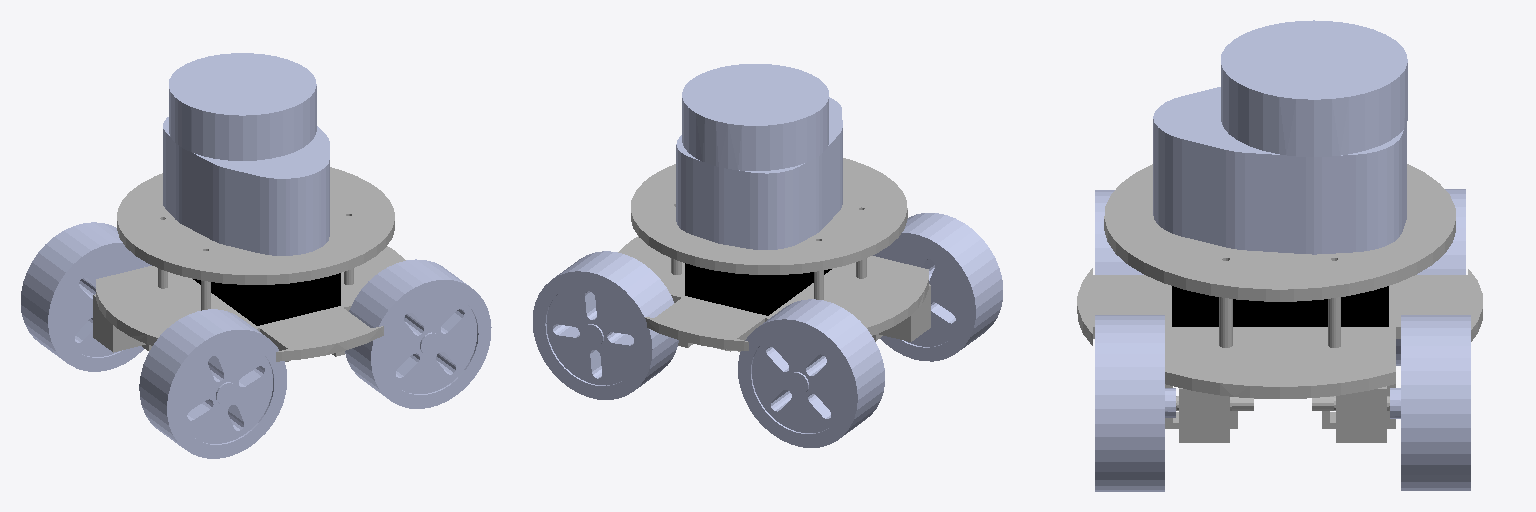
URDF robot description (robot):
<?xml version="1.0" encoding="utf-8"?>
<!-- This URDF was automatically created by SolidWorks to URDF Exporter! Originally created by Stephen Brawner (brawner@gmail.com) 
     Commit Version: 1.6.0-4-g7f85cfe  Build Version: 1.6.7995.38578
     For more information, please see http://wiki.ros.org/sw_urdf_exporter -->
<robot
  xmlns:xacro="http://www.ros.org/wiki/xacro"
  name="robot">

  <link
    name="base_link">
  </link>

  <link
    name="chassis_link">
    <inertial>
      <origin
        xyz="0.000204687581195852 0.00314875501574724 1.53572466782085E-17"
        rpy="0 0 0" />
      <mass
        value="0.253438557114572" />
      <inertia
        ixx="0.000230915983626971"
        ixy="-1.25922435715914E-21"
        ixz="-1.96530082780382E-20"
        iyy="0.000388552862570868"
        iyz="8.63727389926082E-21"
        izz="0.000171792964937591" />
    </inertial>
    <visual>
      <origin
        xyz="0 0 0"
        rpy="0 0 0" />
      <geometry>
        <mesh
          filename="package://rccar_lab/car_urdf/meshes/base_link.STL" />
      </geometry>
      <material
        name="">
        <color
          rgba="0.752941176470588 0.752941176470588 0.752941176470588 1" />
      </material>
    </visual>
    <collision>
      <origin
        xyz="0 0 0"
        rpy="0 0 0" />
      <geometry>
        <mesh
          filename="package://rccar_lab/car_urdf/meshes/base_link.STL" />
      </geometry>
    </collision>
  </link>
  <joint
    name="chassis_joint"
    type="fixed">
    <origin
      xyz="-0.00388152940223453 0.0491487550157473 0.0959822836251013"
      rpy="0 0 0" />
    <parent
      link="base_link" />
    <child
      link="chassis_link" />
    <axis
      xyz="0 0 0" />
  </joint>

  <link
    name="fr_wheel_link">
    <inertial>
      <origin
        xyz="6.93889390390723E-18 5.31629147485363E-05 1.04083408558608E-17"
        rpy="0 0 0" />
      <mass
        value="0.0746841951683647" />
      <inertia
        ixx="2.49513056185901E-05"
        ixy="-5.423278565198E-20"
        ixz="4.13590306276502E-22"
        iyy="4.21618272671167E-05"
        iyz="-9.47970035310487E-23"
        izz="2.49513056185901E-05" />
    </inertial>
    <visual>
      <origin
        xyz="0 0 0"
        rpy="0 0 0" />
      <geometry>
        <mesh
          filename="package://rccar_lab/car_urdf/meshes/fr_wheel_link.STL" />
      </geometry>
      <material
        name="">
        <color
          rgba="0.792156862745098 0.819607843137255 0.933333333333333 1" />
      </material>
    </visual>
    <collision>
      <origin
        xyz="0 0 0"
        rpy="0 0 0" />
      <geometry>
        <mesh
          filename="package://rccar_lab/car_urdf/meshes/fr_wheel_link.STL" />
      </geometry>
    </collision>
  </link>
  <joint
    name="fr_wheel_joint"
    type="continuous">
    <origin
      xyz="0.055 -0.05545 -0.0135"
      rpy="0 0 0" />
    <parent
      link="chassis_link" />
    <child
      link="fr_wheel_link" />
    <axis
      xyz="0 1 0" />
  </joint>
  <link
    name="fl_wheel_link">
    <inertial>
      <origin
        xyz="0 -5.31629147485432E-05 -5.20417042793042E-18"
        rpy="0 0 0" />
      <mass
        value="0.0746841951683647" />
      <inertia
        ixx="2.49513056185901E-05"
        ixy="-5.47674516841756E-20"
        ixz="-2.71418638493962E-22"
        iyy="4.21618272671167E-05"
        iyz="2.30183165982362E-22"
        izz="2.49513056185901E-05" />
    </inertial>
    <visual>
      <origin
        xyz="0 0 0"
        rpy="0 0 0" />
      <geometry>
        <mesh
          filename="package://rccar_lab/car_urdf/meshes/fl_wheel_link.STL" />
      </geometry>
      <material
        name="">
        <color
          rgba="0.792156862745098 0.819607843137255 0.933333333333333 1" />
      </material>
    </visual>
    <collision>
      <origin
        xyz="0 0 0"
        rpy="0 0 0" />
      <geometry>
        <mesh
          filename="package://rccar_lab/car_urdf/meshes/fl_wheel_link.STL" />
      </geometry>
    </collision>
  </link>
  <joint
    name="fl_wheel_joint"
    type="continuous">
    <origin
      xyz="0.055 0.05745 -0.0135"
      rpy="0 0 0" />
    <parent
      link="chassis_link" />
    <child
      link="fl_wheel_link" />
    <axis
      xyz="0 -1 0" />
  </joint>
  <link
    name="br_wheel_link">
    <inertial>
      <origin
        xyz="0 5.31629147485363E-05 1.73472347597681E-18"
        rpy="0 0 0" />
      <mass
        value="0.0746841951683647" />
      <inertia
        ixx="2.49513056185901E-05"
        ixy="-6.50129727077473E-20"
        ixz="6.75315421967096E-22"
        iyy="4.21618272671167E-05"
        iyz="1.17926037236496E-21"
        izz="2.49513056185901E-05" />
    </inertial>
    <visual>
      <origin
        xyz="0 0 0"
        rpy="0 0 0" />
      <geometry>
        <mesh
          filename="package://rccar_lab/car_urdf/meshes/br_wheel_link.STL" />
      </geometry>
      <material
        name="">
        <color
          rgba="0.792156862745098 0.819607843137255 0.933333333333333 1" />
      </material>
    </visual>
    <collision>
      <origin
        xyz="0 0 0"
        rpy="0 0 0" />
      <geometry>
        <mesh
          filename="package://rccar_lab/car_urdf/meshes/br_wheel_link.STL" />
      </geometry>
    </collision>
  </link>
  <joint
    name="br_wheel_joint"
    type="continuous">
    <origin
      xyz="-0.055 -0.05545 -0.0135"
      rpy="0 0 0" />
    <parent
      link="chassis_link" />
    <child
      link="br_wheel_link" />
    <axis
      xyz="0 1 0" />
  </joint>
  <link
    name="bl_wheel_link">
    <inertial>
      <origin
        xyz="-6.93889390390723E-18 -5.31629147485502E-05 -1.73472347597681E-18"
        rpy="0 0 0" />
      <mass
        value="0.0746841951683648" />
      <inertia
        ixx="2.49513056185901E-05"
        ixy="-5.67907179160895E-20"
        ixz="-1.78845495721914E-21"
        iyy="4.21618272671167E-05"
        iyz="9.13026509813255E-22"
        izz="2.49513056185901E-05" />
    </inertial>
    <visual>
      <origin
        xyz="0 0 0"
        rpy="0 0 0" />
      <geometry>
        <mesh
          filename="package://rccar_lab/car_urdf/meshes/bl_wheel_link.STL" />
      </geometry>
      <material
        name="">
        <color
          rgba="0.792156862745098 0.819607843137255 0.933333333333333 1" />
      </material>
    </visual>
    <collision>
      <origin
        xyz="0 0 0"
        rpy="0 0 0" />
      <geometry>
        <mesh
          filename="package://rccar_lab/car_urdf/meshes/bl_wheel_link.STL" />
      </geometry>
    </collision>
  </link>
  <joint
    name="bl_wheel_joint"
    type="continuous">
    <origin
      xyz="-0.055 0.05545 -0.0135"
      rpy="0 0 0" />
    <parent
      link="chassis_link" />
    <child
      link="bl_wheel_link" />
    <axis
      xyz="0 -1 0" />
  </joint>
  <link
    name="laser_frame">
    <inertial>
      <origin
        xyz="-1.11844852964053E-16 -0.00645097632173484 -0.0220370930302957"
        rpy="0 0 0" />
      <mass
        value="0.291987614489637" />
      <inertia
        ixx="0.0002404496804147"
        ixy="1.12972461375983E-19"
        ixz="-7.32140473318081E-21"
        iyy="0.000179322343491855"
        iyz="-1.7915823262772E-05"
        izz="0.00023562662350046" />
    </inertial>
    <visual>
      <origin
        xyz="0 0 0"
        rpy="0 0 0" />
      <geometry>
        <mesh
          filename="package://rccar_lab/car_urdf/meshes/laser_frame.STL" />
      </geometry>
      <material
        name="">
        <color
          rgba="0.792156862745098 0.819607843137255 0.933333333333333 1" />
      </material>
    </visual>
    <collision>
      <origin
        xyz="0 0 0"
        rpy="0 0 0" />
      <geometry>
        <mesh
          filename="package://rccar_lab/car_urdf/meshes/laser_frame.STL" />
      </geometry>
    </collision>
  </link>
  <joint
    name="laser_frame_joint"
    type="fixed">
    <origin
      xyz="0 0.0125 0.08893"
      rpy="0 0 0" />
    <parent
      link="chassis_link" />
    <child
      link="laser_frame" />
    <axis
      xyz="0 0 0" />
  </joint>

  <gazebo reference="laser_frame">
      <material>Gazebo/DarkGrey</material>
      <sensor name="laser" type="gpu_lidar">
        <pose> 0 0 0 0 0 0 </pose>
        <visualize>true</visualize>
        <update_rate>10</update_rate>
        <topic>scan</topic>
        <gz_frame_id>laser_frame</gz_frame_id>
        <lidar>
          <scan>
            <horizontal>
              <samples>360</samples>
              <resolution>1</resolution>
              <min_angle>-3.14</min_angle>
              <max_angle>3.14</max_angle>
            </horizontal>
          </scan>
          <range>
            <min>0.15</min>
            <max>12</max>
            <resolution>0.01</resolution>
          </range>

          <noise>
            <type>gaussian</type>
            <mean>0.0</mean>
            <stddev>0.001</stddev>
          </noise>

        </lidar>

        <always_on>1</always_on>
        <visualize>1</visualize>

      </sensor>

  </gazebo>

  <link
    name="ebox_link">
    <inertial>
      <origin
        xyz="1.32591217148186E-18 -7.42445710199543E-18 0.00665420516682762"
        rpy="0 0 0" />
      <mass
        value="0.0194293141652942" />
      <inertia
        ixx="1.44863163441746E-05"
        ixy="2.72159329107965E-20"
        ixz="1.70283301056841E-20"
        iyy="5.88923381835338E-06"
        iyz="8.0720709024853E-22"
        izz="1.88651943786396E-05" />
    </inertial>
    <visual>
      <origin
        xyz="0 0 0"
        rpy="0 0 0" />
      <geometry>
        <mesh
          filename="package://rccar_lab/car_urdf/meshes/ebox_link.STL" />
      </geometry>
      <material
        name="">
        <color
          rgba="0 0 0 1" />
      </material>
    </visual>
    <collision>
      <origin
        xyz="0 0 0"
        rpy="0 0 0" />
      <geometry>
        <mesh
          filename="package://rccar_lab/car_urdf/meshes/ebox_link.STL" />
      </geometry>
    </collision>
  </link>
  <joint
    name="ebox_joint"
    type="fixed">
    <origin
      xyz="0 0 0.0025"
      rpy="0 0 0" />
    <parent
      link="chassis_link" />
    <child
      link="ebox_link" />
    <axis
      xyz="0 0 0" />
  </joint>
  <link
    name="battery_link">
    <inertial>
      <origin
        xyz="-0.000123841648641815 4.21830740490866E-18 0.00748048339939821"
        rpy="0 0 0" />
      <mass
        value="0.0281697989109725" />
      <inertia
        ixx="2.44479179923402E-06"
        ixy="-2.98803775987149E-20"
        ixz="6.80855024106424E-11"
        iyy="1.06924152126357E-05"
        iyz="-2.10030338456889E-23"
        izz="1.21105909928422E-05" />
    </inertial>
    <visual>
      <origin
        xyz="0 0 0"
        rpy="0 0 0" />
      <geometry>
        <mesh
          filename="package://rccar_lab/car_urdf/meshes/battery_link.STL" />
      </geometry>
      <material
        name="">
        <color
          rgba="0.250980392156863 0.250980392156863 0.250980392156863 1" />
      </material>
    </visual>
    <collision>
      <origin
        xyz="0 0 0"
        rpy="0 0 0" />
      <geometry>
        <mesh
          filename="package://rccar_lab/car_urdf/meshes/battery_link.STL" />
      </geometry>
    </collision>
  </link>
  <joint
    name="battery_joint"
    type="fixed">
    <origin
      xyz="0 0 -0.0175"
      rpy="0 0 0" />
    <parent
      link="chassis_link" />
    <child
      link="battery_link" />
    <axis
      xyz="0 0 0" />
  </joint>
</robot>

--- Render facts (derived) ---
The picture shows the robot from 3 angles, left to right: view 1: azimuth 30°, elevation 25°; view 2: azimuth 150°, elevation 25°; view 3: azimuth 270°, elevation 25°; orthographic projection.
Model robot with 9 links and 8 joints (4 continuous, 4 fixed), rooted at base_link, posed all joints at 0.
Links seen in each view (by area): view 1: laser_frame, chassis_link, br_wheel_link, fr_wheel_link, bl_wheel_link, ebox_link; view 2: laser_frame, chassis_link, bl_wheel_link, fl_wheel_link, br_wheel_link, ebox_link; view 3: chassis_link, laser_frame, fr_wheel_link, fl_wheel_link, ebox_link, bl_wheel_link, br_wheel_link.
Boxes of the visible links, <box> form: laser_frame: <box>163,53,329,255</box>; chassis_link: <box>93,167,405,361</box>; br_wheel_link: <box>139,309,286,458</box>; fr_wheel_link: <box>345,259,491,408</box>; bl_wheel_link: <box>21,222,151,371</box>; ebox_link: <box>193,273,340,325</box>; laser_frame: <box>676,64,842,249</box>; chassis_link: <box>618,158,930,351</box>; bl_wheel_link: <box>738,299,884,447</box>; fl_wheel_link: <box>533,251,678,399</box>; br_wheel_link: <box>873,213,1002,361</box>; ebox_link: <box>685,263,831,315</box>; chassis_link: <box>1077,164,1482,442</box>; laser_frame: <box>1153,20,1407,254</box>; fr_wheel_link: <box>1095,315,1175,491</box>; fl_wheel_link: <box>1390,315,1470,490</box>; ebox_link: <box>1172,286,1388,326</box>; bl_wheel_link: <box>1396,189,1465,365</box>; br_wheel_link: <box>1095,190,1143,274</box>.
Bounding box of the posed robot: 0.175 × 0.1498 × 0.1466 m (x, y, z).
Meshes: 8 distinct files referenced, 8 mesh visuals loaded (8 binary STL).
